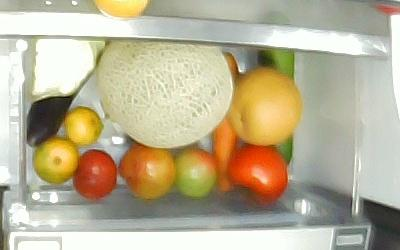cabbage: (27, 38, 109, 101)
carrot: (209, 52, 237, 194)
eggplant: (26, 49, 102, 149)
melon: (98, 37, 234, 149), (99, 35, 234, 146)
pear: (226, 68, 303, 146)
prune: (117, 143, 174, 200), (75, 150, 117, 202)
tangerine: (33, 136, 80, 184), (64, 107, 103, 148)
tomato: (227, 146, 288, 205), (172, 147, 218, 199)
zucchini: (257, 48, 295, 165)
